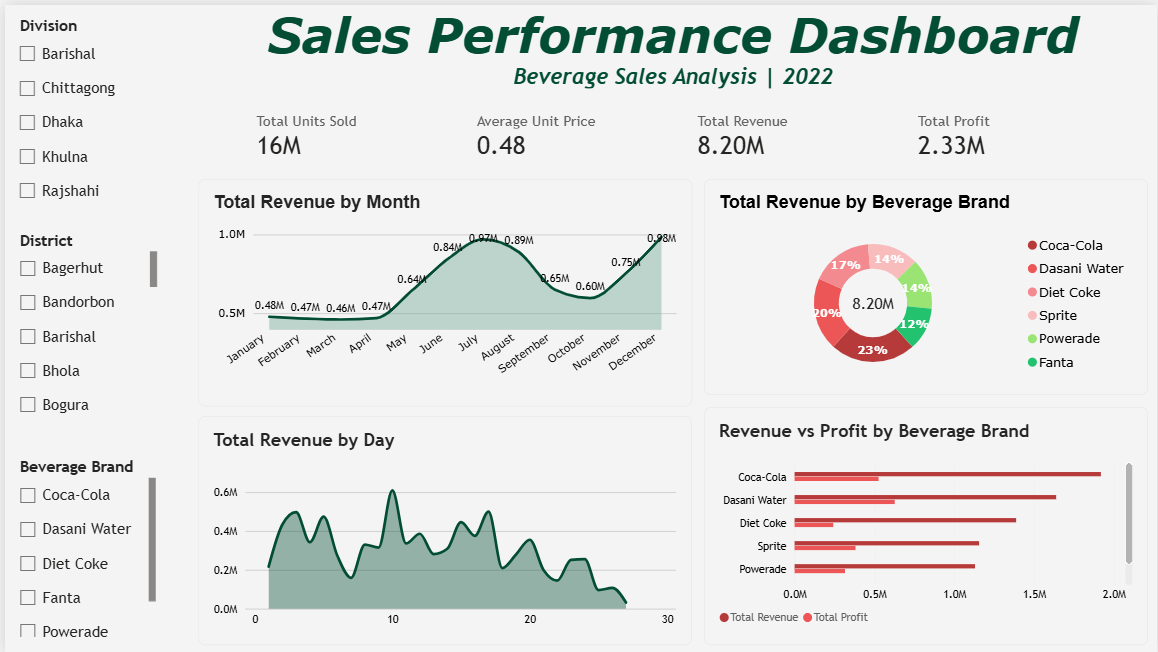

The dashboard page shown, as its layout file describes it:
{"tool":"powerbi","page":{"name":"Dashboard","canvas":[1280,720],"ordinal":0},"visuals":[{"type":"slicer","fields":{"Values":["Data_Clean.Division"]},"box":[8,12.7,157.5,229],"z":0},{"type":"slicer","fields":{"Values":["Data_Clean.District"]},"box":[8,251.3,160.7,214.7],"z":1000},{"type":"slicer","fields":{"Values":["Data_Clean.Beverage Brand"]},"box":[8,502.6,159.1,198.8],"z":2000},{"type":"cardVisual","fields":{"Data":["Data_Clean.Total Units Sold"]},"box":[264,109.8,212,72],"z":3000},{"type":"cardVisual","fields":{"Data":["Data_Clean.Average Price per unit"]},"box":[509,109.8,212,72],"z":4000},{"type":"cardVisual","fields":{"Data":["Data_Clean.Total Revenue"]},"box":[753.9,109.8,212,72],"z":5000},{"type":"lineChart","title":"Total Revenue by Month","fields":{"Category":["Dates_Clean.Month Name"],"Y":["Data_Clean.Total Revenue"]},"box":[214.7,194.1,548.8,252.9],"z":6000},{"type":"lineChart","fields":{"Category":["Dates_Clean.Date.Variation.Date Hierarchy.Day"],"Y":["Data_Clean.Total Revenue"]},"box":[215,457.3,548.1,254.4],"z":7000},{"type":"donutChart","title":"Total Revenue by Beverage Brand ","fields":{"Category":["Data_Clean.Beverage Brand"],"Y":["Data_Clean.Total Revenue"]},"box":[776.2,194.1,493.1,240.2],"z":8000},{"type":"clusteredBarChart","title":"Revenue vs Profit by Beverage Brand","fields":{"Category":["Data_Clean.Beverage Brand"],"Y":["Data_Clean.Total Revenue","Data_Clean.Total Profit"]},"box":[776.8,446.7,493.6,265],"z":9000},{"type":"shape","title":"Sales Performance Dashboard","box":[205.2,0,1075.3,97],"z":10000},{"type":"cardVisual","fields":{"Data":["Data_Clean.Total Profit"]},"box":[998.9,109.8,212,72],"z":11000}]}

Visuals, with their boxes in screenshot pixels (x1, y1, x2, y2), scaled from the page's 1280x720 canvas onto the 1158x652 screenshot:
slicer - Data_Clean.Division: (7, 12, 150, 219)
slicer - Data_Clean.District: (7, 228, 153, 422)
slicer - Data_Clean.Beverage Brand: (7, 455, 151, 635)
cardVisual - Data_Clean.Total Units Sold: (239, 99, 431, 165)
cardVisual - Data_Clean.Average Price per unit: (460, 99, 652, 165)
cardVisual - Data_Clean.Total Revenue: (682, 99, 874, 165)
"Total Revenue by Month" lineChart: (194, 176, 691, 405)
lineChart - Dates_Clean.Date.Variation.Date Hierarchy.Day x Data_Clean.Total Revenue: (195, 414, 690, 644)
"Total Revenue by Beverage Brand " donutChart: (702, 176, 1148, 393)
"Revenue vs Profit by Beverage Brand" clusteredBarChart: (703, 405, 1149, 644)
"Sales Performance Dashboard" shape: (186, 0, 1157, 88)
cardVisual - Data_Clean.Total Profit: (904, 99, 1095, 165)
